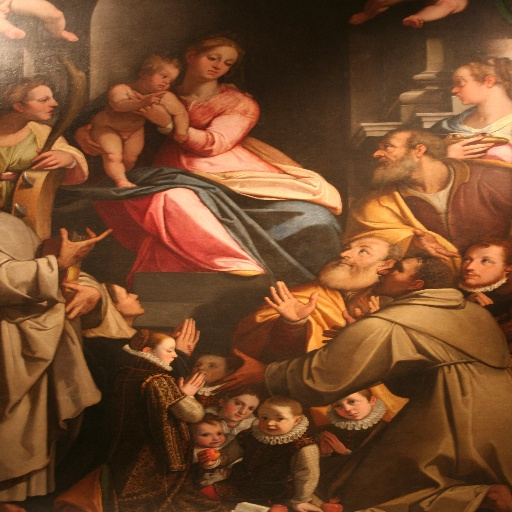hand: (207, 347, 268, 401), (258, 286, 326, 322), (60, 225, 112, 266), (413, 228, 463, 262), (125, 90, 173, 125), (61, 283, 99, 321), (446, 134, 496, 160), (174, 316, 202, 357), (31, 146, 76, 171), (73, 125, 105, 158), (322, 432, 349, 457), (177, 372, 204, 395), (143, 91, 168, 106), (196, 451, 218, 466), (292, 501, 325, 511), (168, 320, 184, 336), (321, 438, 336, 455), (476, 292, 494, 306), (173, 131, 189, 144), (220, 467, 232, 478), (463, 293, 476, 303)
